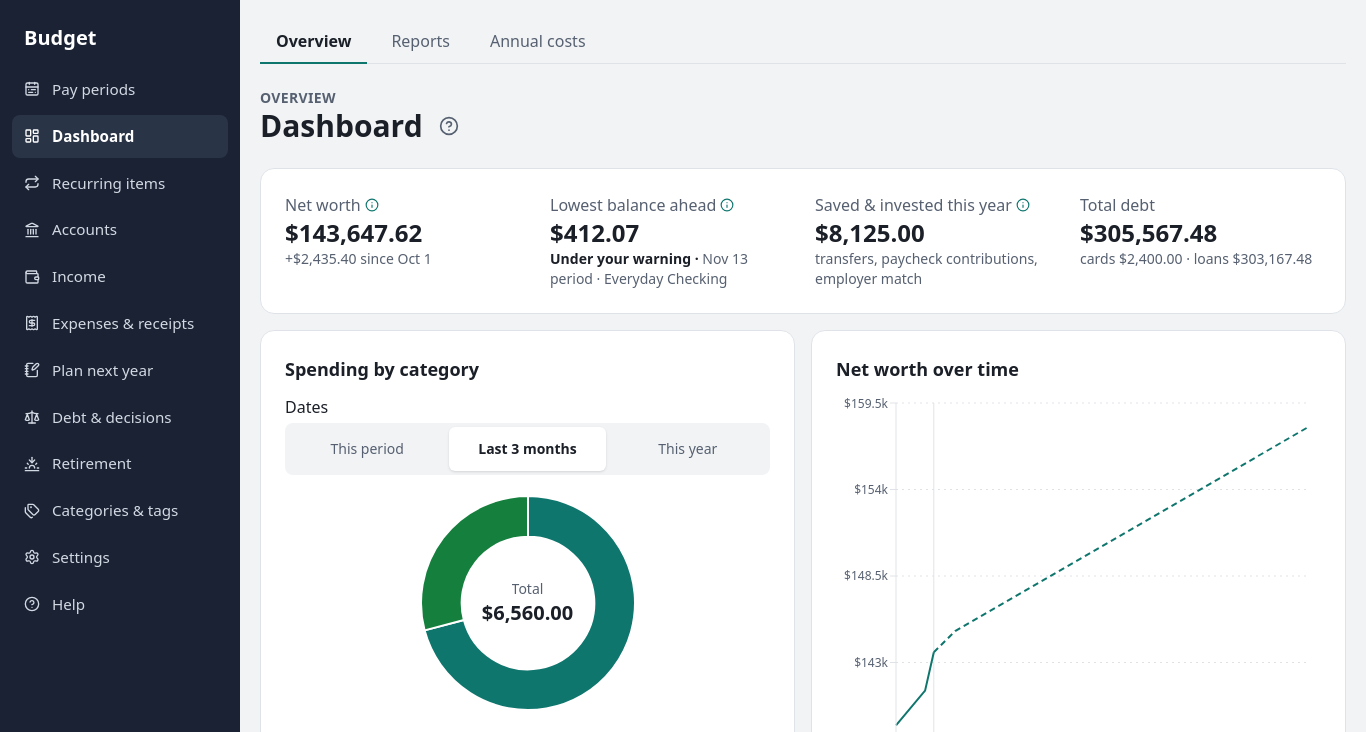
Test: Dashboard › has three tabs, each its own address, with Overview the one in view
The width and height of the screenshot is (1366, 732).
Click the link "Reports": (421, 41) [391,30,450,52]
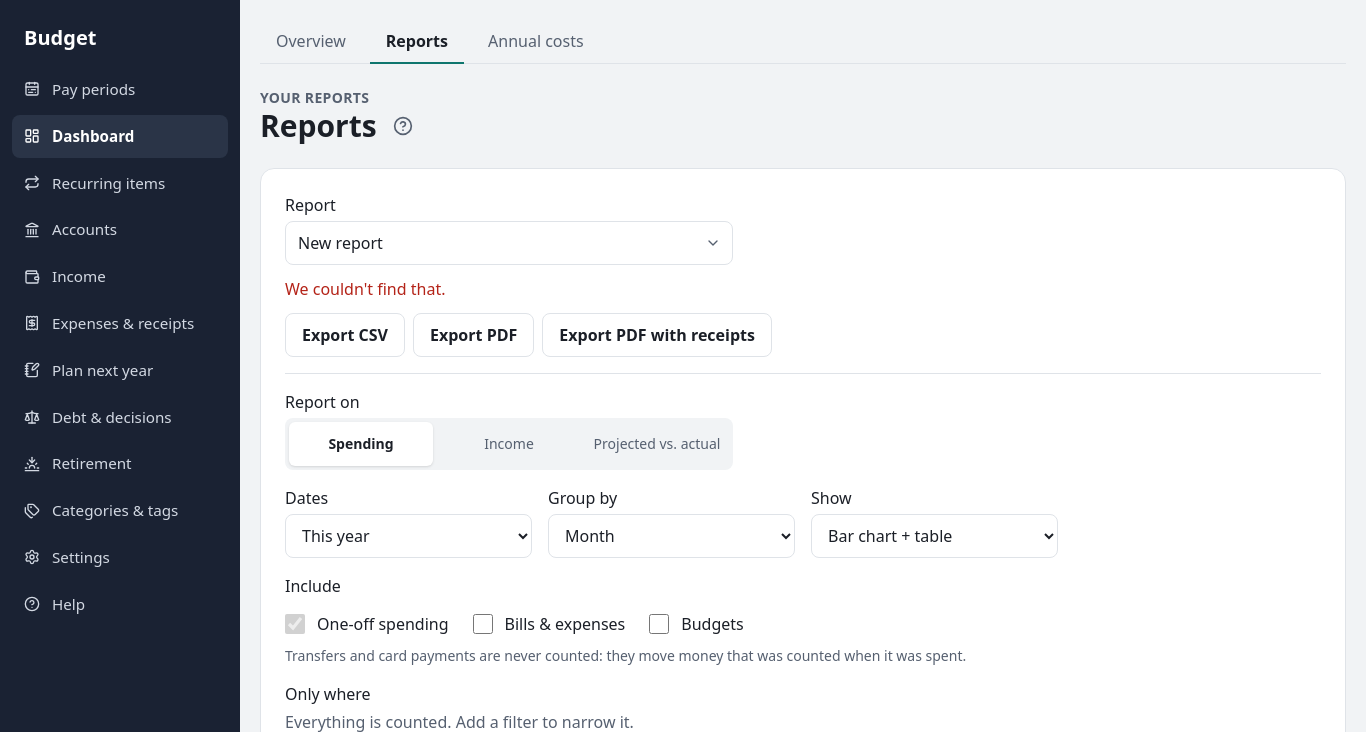
Expected: the heading "Reports" is shown, [260,108,377,144]
